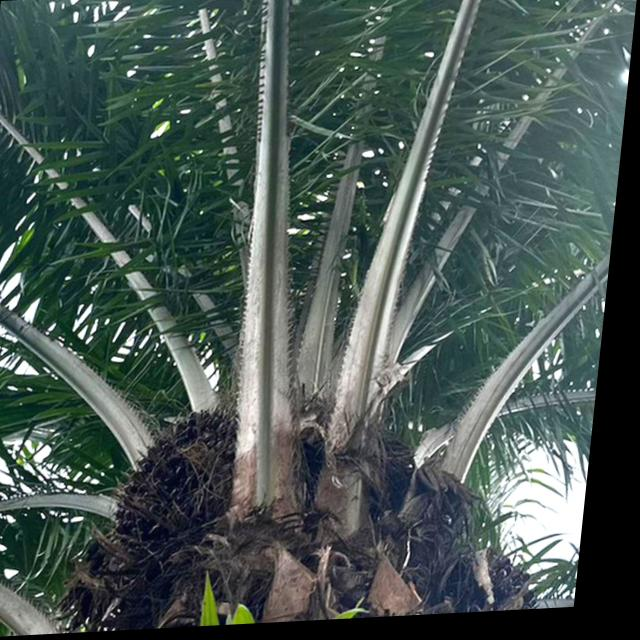almost: (114, 402, 256, 557)
